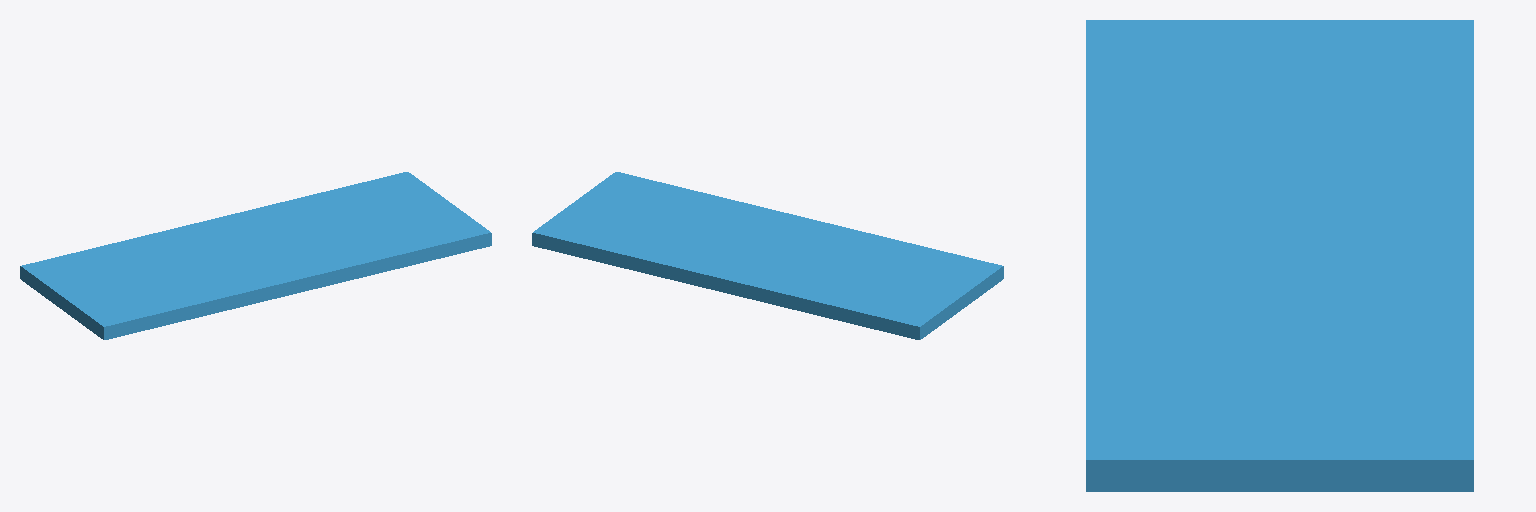
URDF robot description (cylinder_41):
    
    <robot name="cylinder_41">
        <link name="cylinder_41">    
            <fem>
                <origin rpy="0.0 0.0 0.0" xyz="0 0 0" />
                <density value="100" />
                <youngs value="11344"/>
                <poissons value="0.3" />
                <damping value="0.0" />
                <attachDistance value="0.01" />
                <tetmesh filename="[local-path]/sim_data/Custom/Custom_mesh/multi_cylinders_10kPa/cylinder_41.tet" />
                <scale value="0.5"/>
            </fem>
        </link>

        <link name="fix_frame">
            <visual>
                <origin xyz="0.0 0.0 10.077704520564314"/>
                <geometry>
                    <box size="0.15 0.05600590417766044 0.005"/>
                </geometry>
            </visual>
            <collision>
                <origin xyz="0.0 0.0 0.0777045205643148"/>
                <geometry>
                    <box size="0.15 0.05600590417766044 0.005"/>
                </geometry>
            </collision>
            <inertial>
                <mass value="500000"/>
                <inertia ixx="0.05" ixy="0.0" ixz="0.0" iyy="0.05" iyz="0.0" izz="0.05"/>
            </inertial>
        </link>
        
        <joint name = "attach" type = "fixed">
            <origin xyz = "0.0 0.0 0.0" rpy = "0 0 0"/>
            <parent link ="cylinder_41"/>
            <child link = "fix_frame"/>
        </joint>  




    </robot>
    

--- Facts derived from the render (not from the file) ---
3 views of the same robot in one strip: view 1: azimuth 30°, elevation 25°; view 2: azimuth 150°, elevation 25°; view 3: azimuth 270°, elevation 25° (orthographic).
Robot: cylinder_41 — 2 links, 1 joints (1 fixed); root link cylinder_41; default pose: every joint at zero.
Visible links, largest first — view 1: fix_frame; view 2: fix_frame; view 3: fix_frame.
Boxes of the visible links, <box> form: fix_frame: <box>20,172,491,339</box>; fix_frame: <box>532,172,1003,339</box>; fix_frame: <box>1086,20,1473,491</box>.
Size in the robot's own frame: 0.15 by 0.056 by 0.005 metres.
Geometry: primitives only (box / cylinder / sphere), no mesh files.